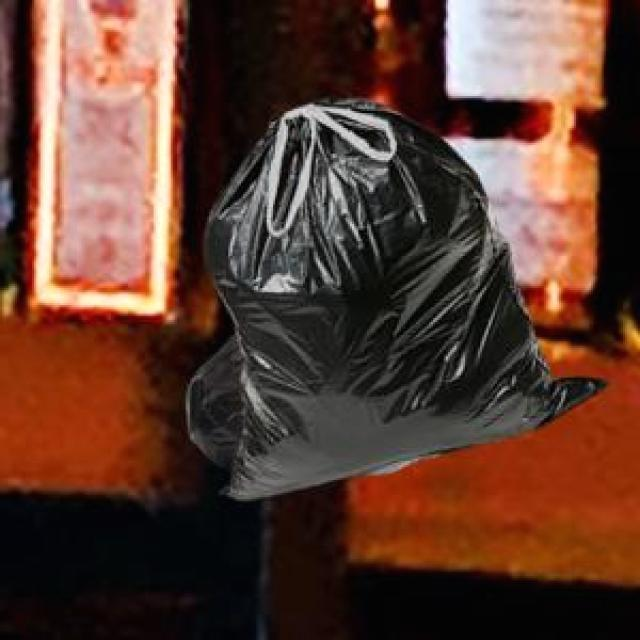Trashbag: (180, 87, 578, 498)
